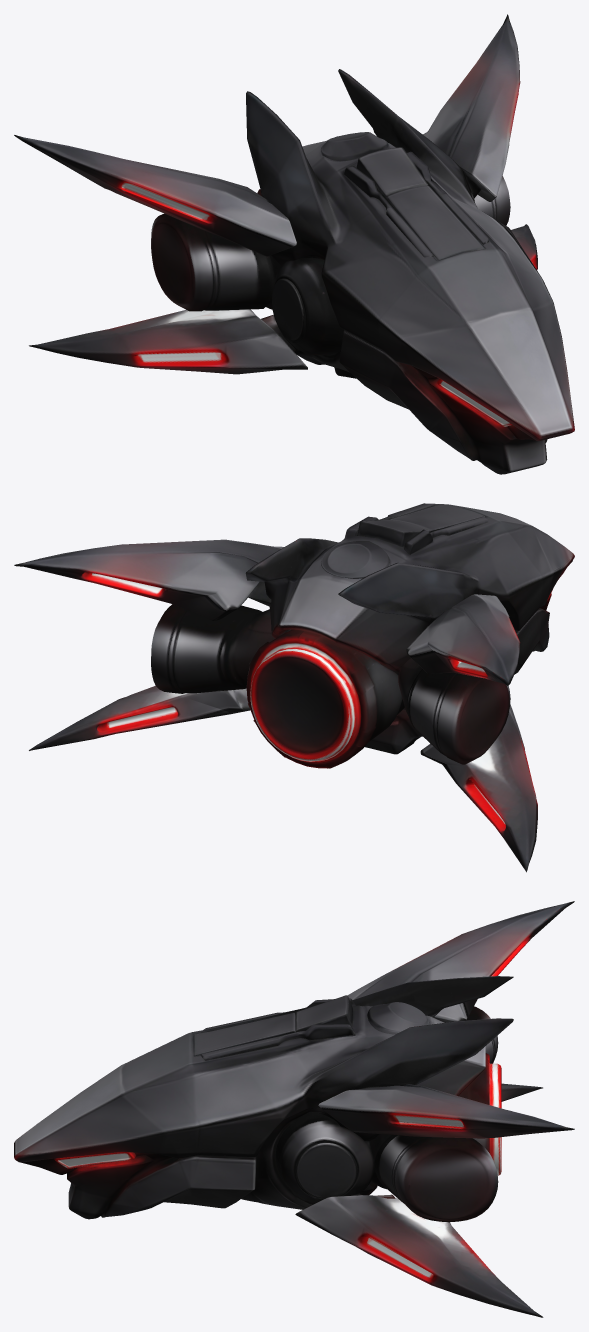
File: futuristic drone 3d model.glb
3 renders of one model, top to bottom at view 1: azimuth 30°, elevation 25°; view 2: azimuth 150°, elevation 25°; view 3: azimuth 270°, elevation 25°, orthographic. The views are drawn at different scales.
Parts seen in each view (by area): view 1: tripo_node_c55e7962-26f3-495b-a370-21f8af95f764; view 2: tripo_node_c55e7962-26f3-495b-a370-21f8af95f764; view 3: tripo_node_c55e7962-26f3-495b-a370-21f8af95f764.
Boxes of the visible parts, x1,y1,x2,y2 form: tripo_node_c55e7962-26f3-495b-a370-21f8af95f764: (14,14,574,474); tripo_node_c55e7962-26f3-495b-a370-21f8af95f764: (14,503,574,872); tripo_node_c55e7962-26f3-495b-a370-21f8af95f764: (14,901,574,1317).
Size of the model in its own units: 0.9683 by 0.4233 by 0.9995.
1 material, 1 textured.
